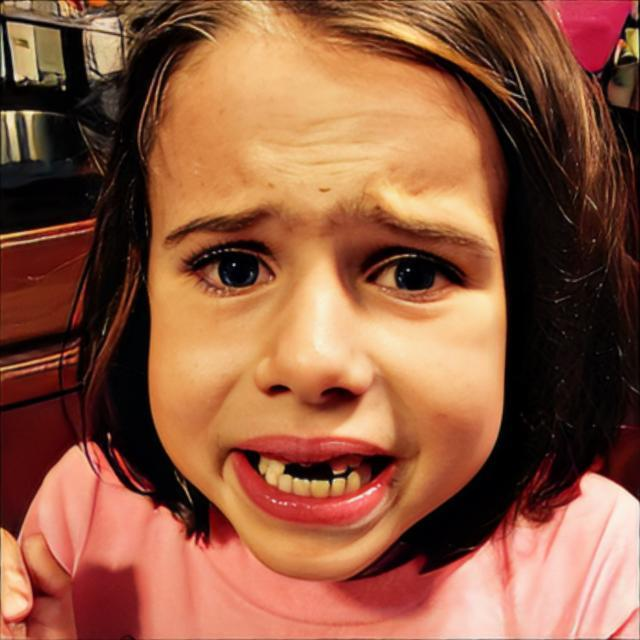fear: (142, 5, 510, 582)
